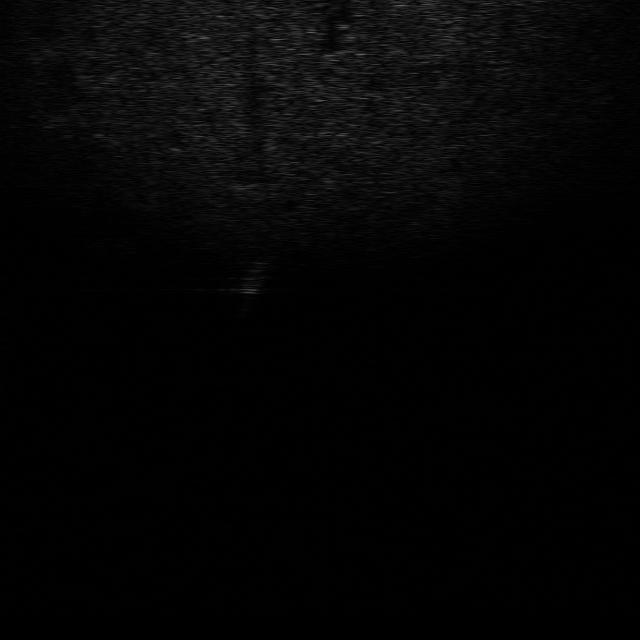human body: (235, 250, 273, 319)
